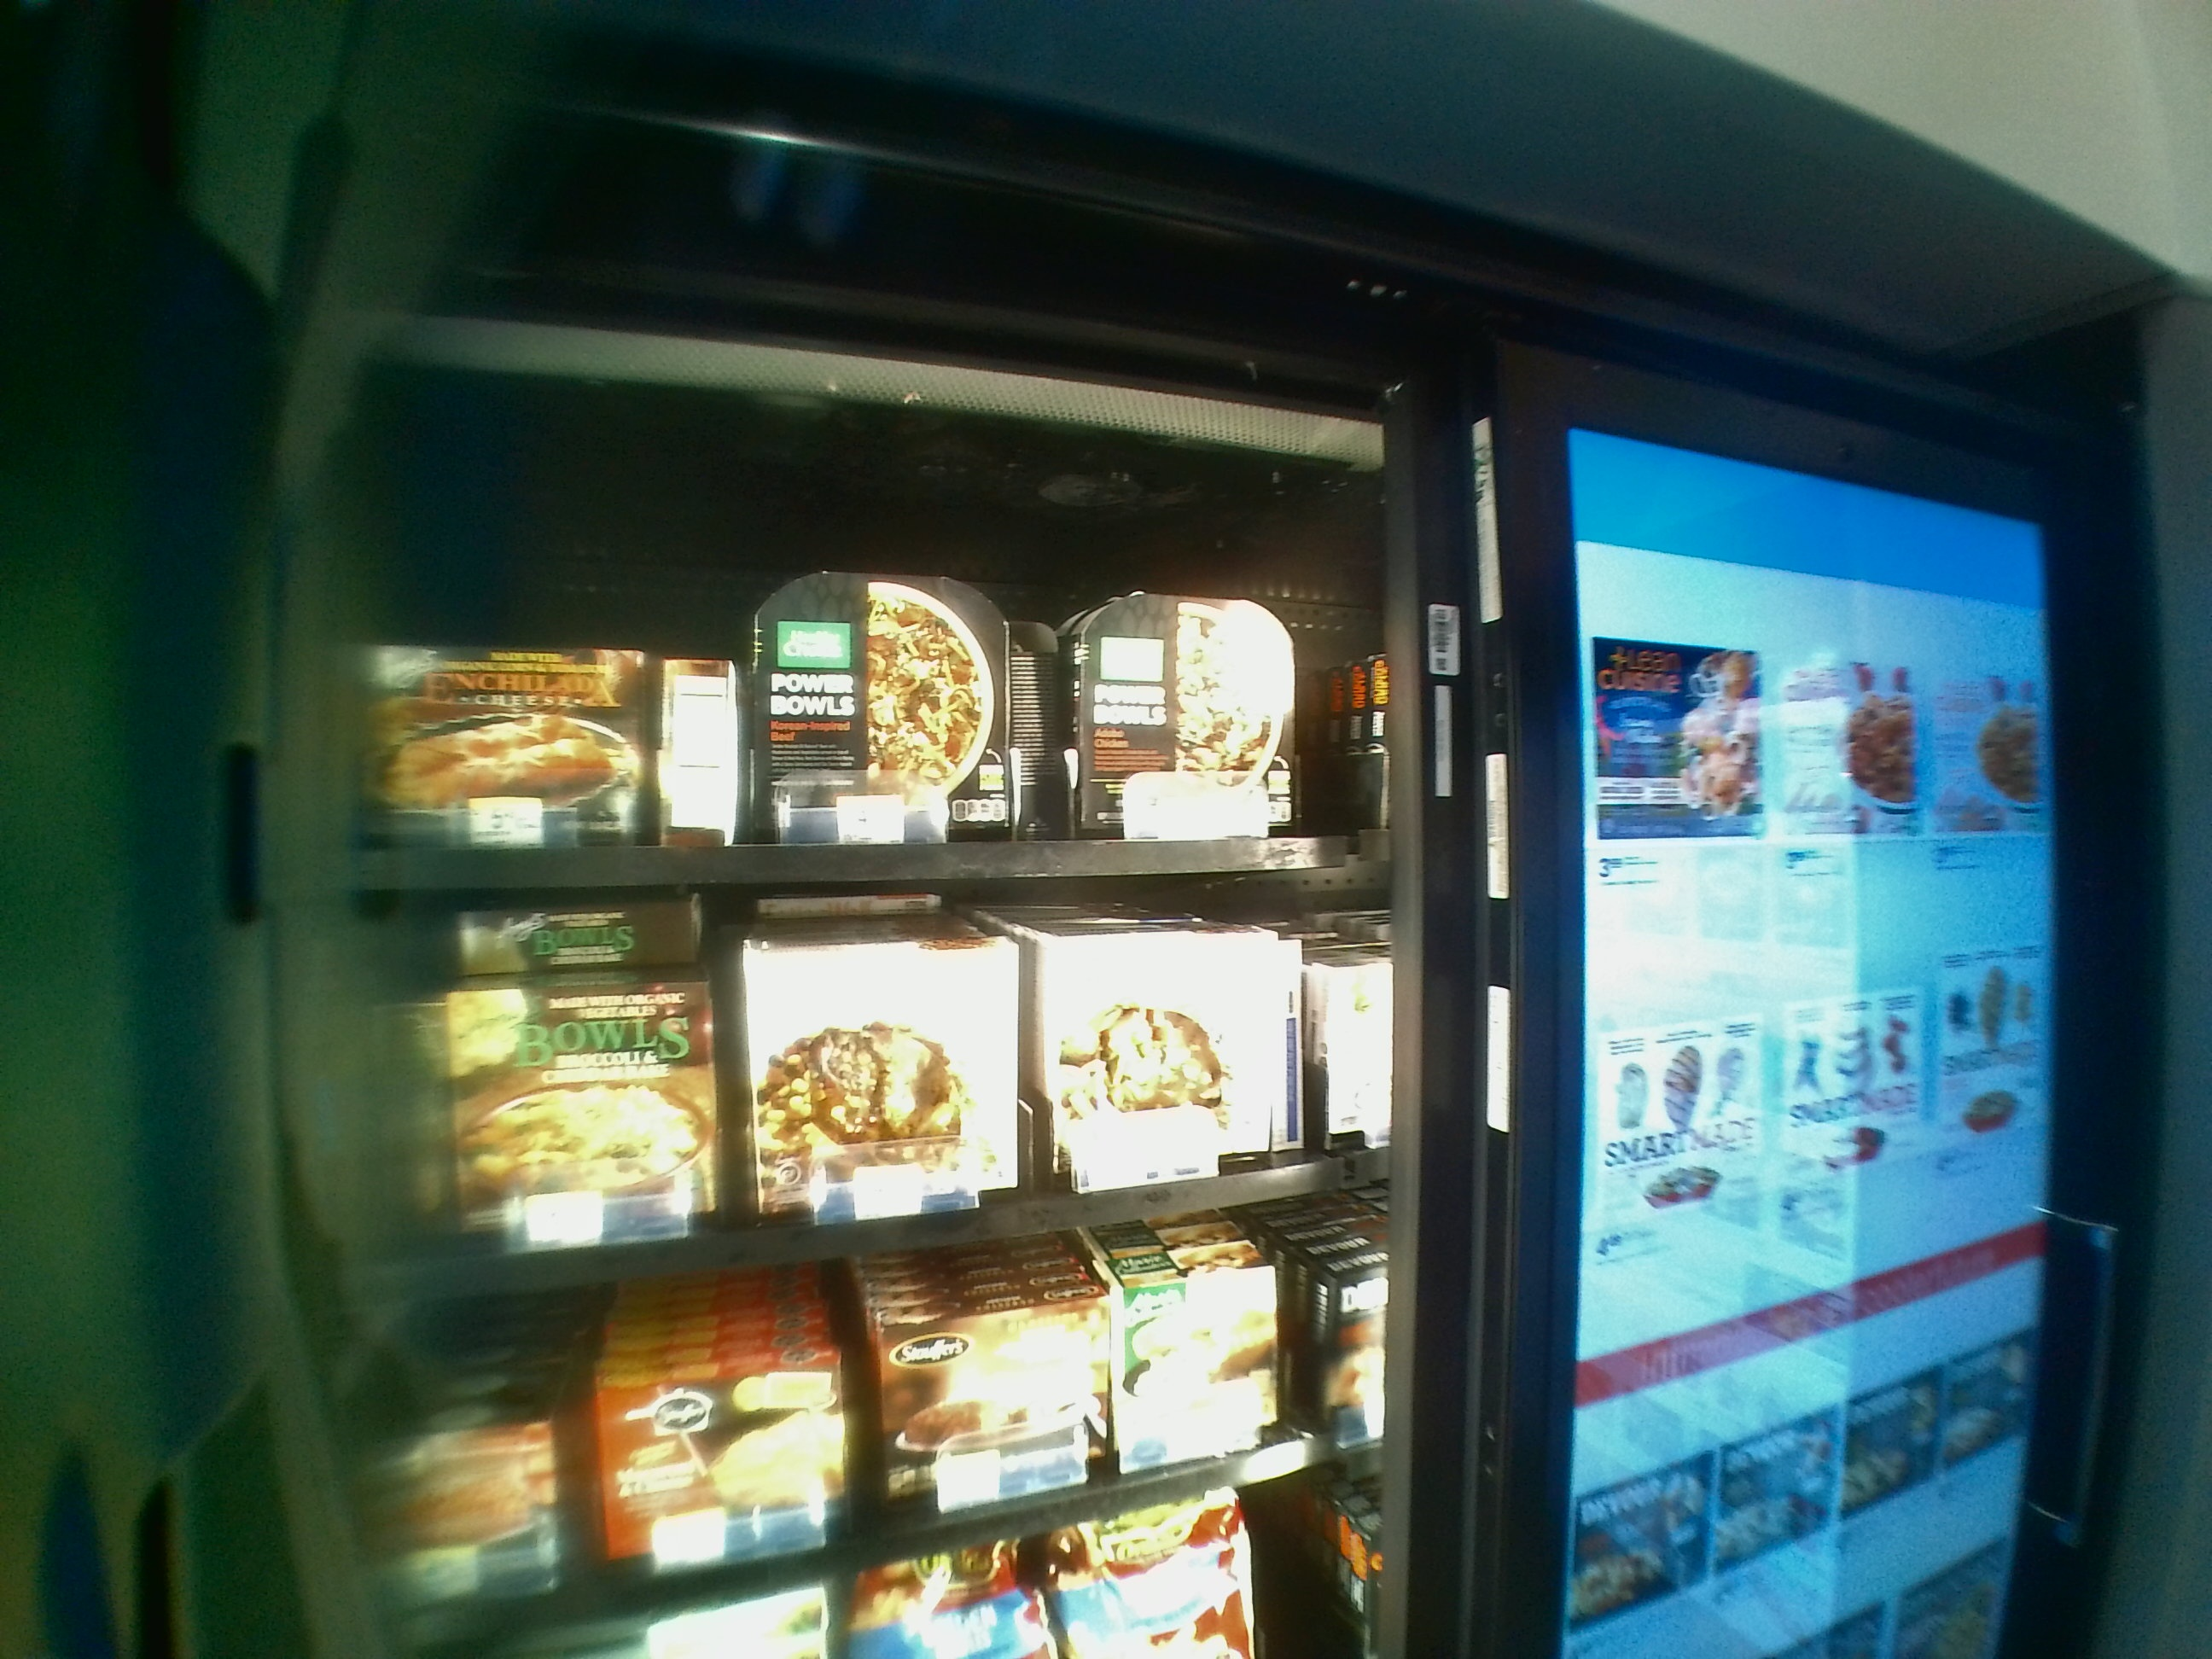shelf: (331, 460, 1374, 884), (334, 892, 1395, 1293)
